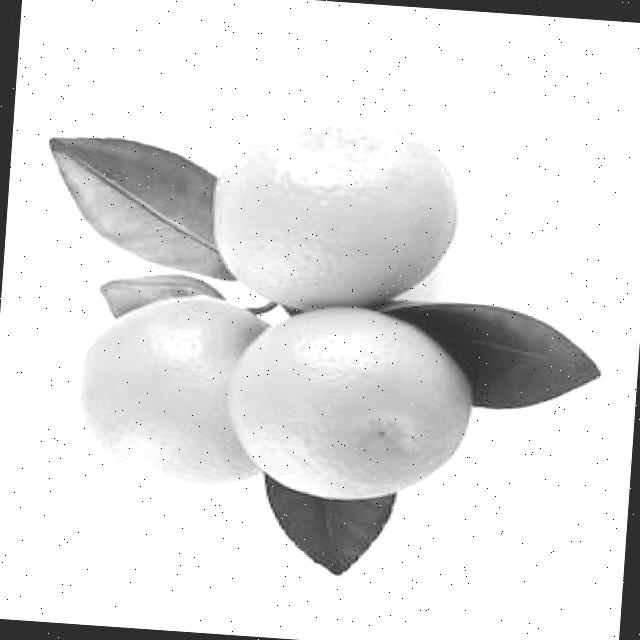orange: (223, 297, 480, 510), (206, 98, 467, 307)
